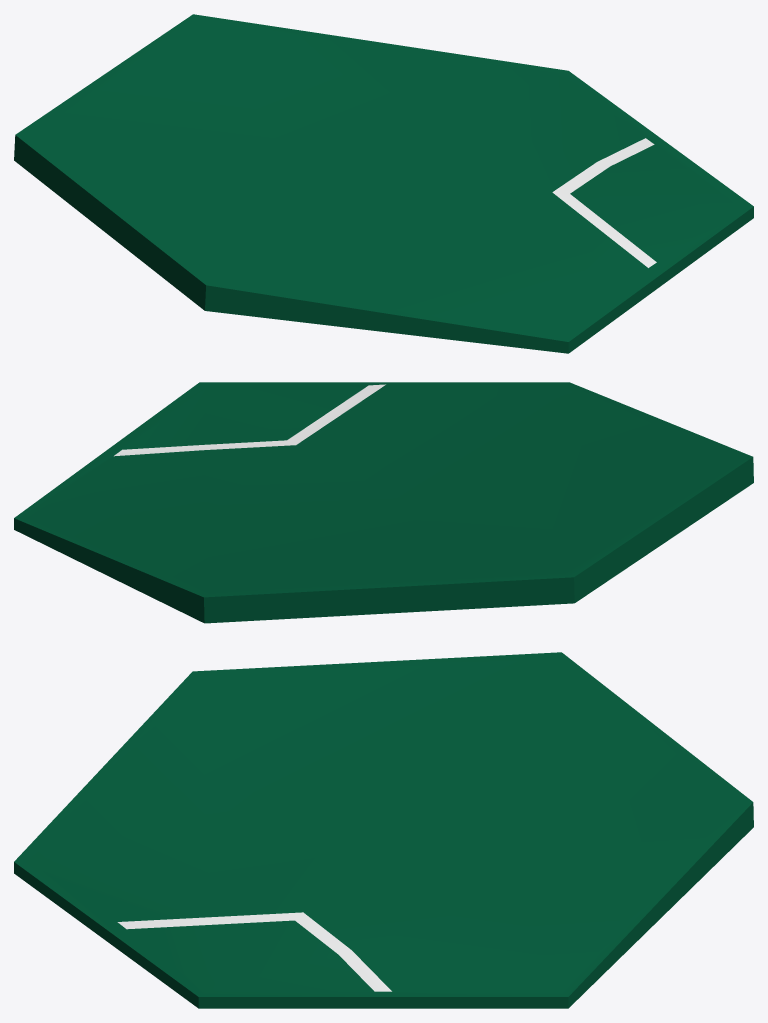
The model's file is left_sharp3.fbx.
3 views of the same model, one above another, from view 1: azimuth 30°, elevation 25°; view 2: azimuth 150°, elevation 25°; view 3: azimuth 270°, elevation 25° (orthographic).
Visible parts, largest first — view 1: left_sharp3; view 2: left_sharp3; view 3: left_sharp3.
Boxes of the visible parts, x1,y1,x2,y2 form: left_sharp3: (14, 14, 753, 353); left_sharp3: (14, 382, 753, 623); left_sharp3: (14, 652, 753, 1008).
Bounding box in the file's own units: 50.16 × 7.38 × 57.81.
1 material, 1 textured.
